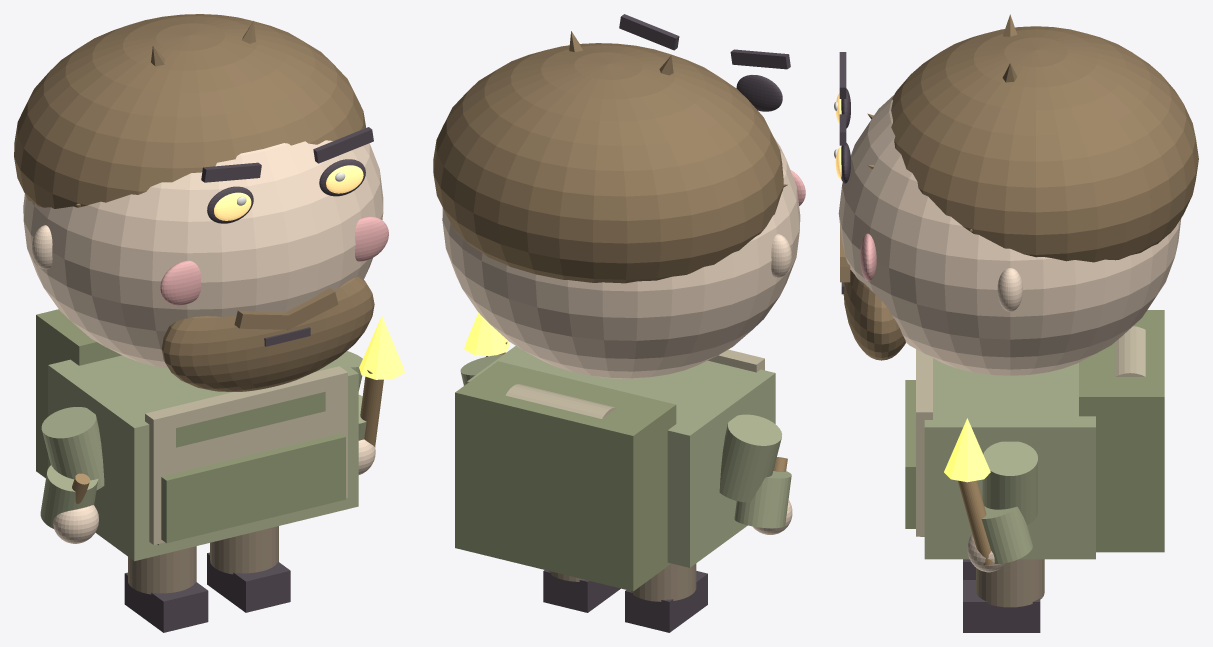
The model's file is survivor.glb.
3 views of the same model, side by side, from view 1: azimuth 30°, elevation 25°; view 2: azimuth 150°, elevation 25°; view 3: azimuth 270°, elevation 25° (orthographic).
Visible parts, largest first — view 1: HairCap, Head, Coat, Beard, Vest, VestPouch_2, VestPouch_0, VestPouch_1, Pack, UpperArm_L, VestStrap, Shoe_L (+18 smaller); view 2: HairCap, Pack, Head, Coat, UpperArm_L, Shoe_L, Forearm_L, Shoe_R, Leg_L, Bedroll, EyeSocket_L, FlameOut (+4 smaller); view 3: HairCap, Head, Coat, Pack, UpperArm_R, Beard, Leg_R, Shoe_R, Vest, Forearm_R, FlameOut, Bedroll (+5 smaller).
Boxes of the visible parts, bbox=[...] form: HairCap: bbox=[14, 14, 365, 208]; Head: bbox=[23, 140, 383, 368]; Coat: bbox=[48, 355, 358, 561]; Beard: bbox=[161, 276, 374, 391]; Vest: bbox=[145, 366, 347, 544]; VestPouch_2: bbox=[273, 433, 345, 515]; VestPouch_0: bbox=[161, 460, 233, 543]; VestPouch_1: bbox=[222, 449, 289, 529]; Pack: bbox=[36, 309, 121, 478]; UpperArm_L: bbox=[41, 407, 104, 490]; VestStrap: bbox=[176, 391, 325, 447]; Shoe_L: bbox=[124, 572, 208, 632]; HairCap: bbox=[433, 43, 783, 283]; Pack: bbox=[455, 361, 676, 591]; Head: bbox=[442, 138, 800, 378]; Coat: bbox=[467, 346, 775, 567]; UpperArm_L: bbox=[719, 414, 782, 502]; Shoe_L: bbox=[625, 571, 707, 632]; Forearm_L: bbox=[734, 471, 791, 528]; Shoe_R: bbox=[543, 570, 620, 612]; Leg_L: bbox=[631, 563, 696, 601]; Bedroll: bbox=[505, 384, 616, 418]; EyeSocket_L: bbox=[736, 75, 782, 111]; FlameOut: bbox=[464, 312, 509, 356]; HairCap: bbox=[891, 26, 1198, 262]; Head: bbox=[838, 94, 1181, 375]; Coat: bbox=[924, 358, 1095, 559]; Pack: bbox=[1079, 310, 1164, 552]; UpperArm_R: bbox=[982, 441, 1037, 525]; Beard: bbox=[843, 270, 905, 360]; Leg_R: bbox=[976, 559, 1044, 607]; Shoe_R: bbox=[963, 580, 1040, 632]; Vest: bbox=[916, 349, 932, 536]; Forearm_R: bbox=[981, 506, 1032, 564]; FlameOut: bbox=[944, 418, 990, 482]; Bedroll: bbox=[1115, 326, 1145, 376].
Bounding box in the file's own units: 1.26 × 1.97 × 1.16.
